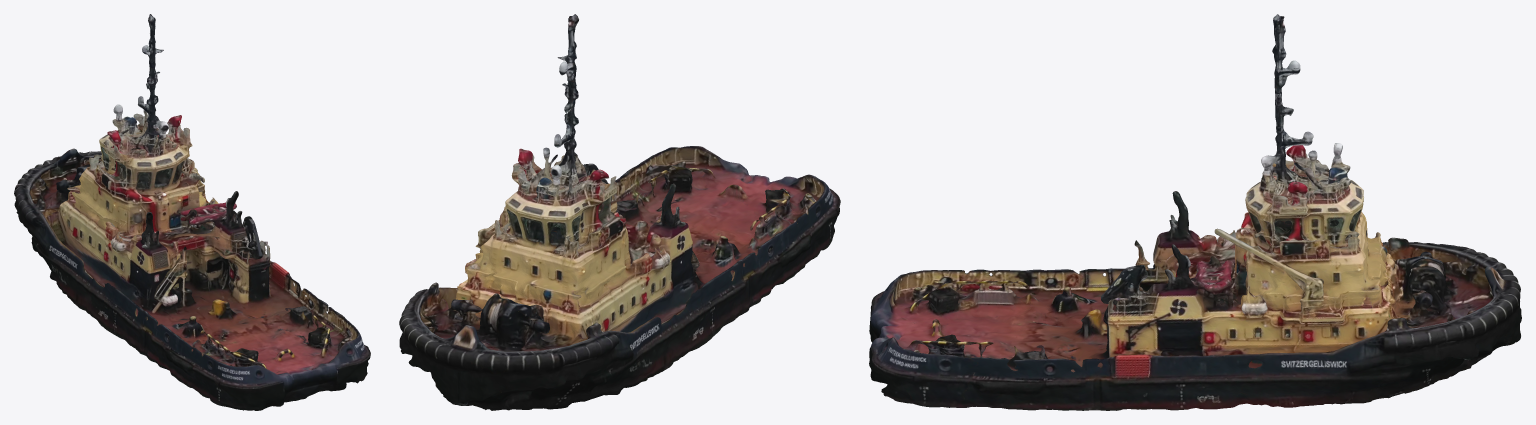
The model's file is sf-svitzer-gelliswick-fishing-boat-3d-scan-172f7b.glb.
3 views of the same model, side by side, from view 1: azimuth 30°, elevation 25°; view 2: azimuth 150°, elevation 25°; view 3: azimuth 270°, elevation 25° (orthographic). The views are drawn at different scales.
Visible parts, largest first — view 1: Object_2; view 2: Object_2; view 3: Object_2.
Part boxes in pixels (left/top/right/bottom): Object_2: left=14, top=14, right=370, bottom=410; Object_2: left=399, top=14, right=840, bottom=410; Object_2: left=869, top=14, right=1521, bottom=410.
Bounding box in the file's own units: 1.07 × 1.75 × 2.89.
1 material, 1 textured.
